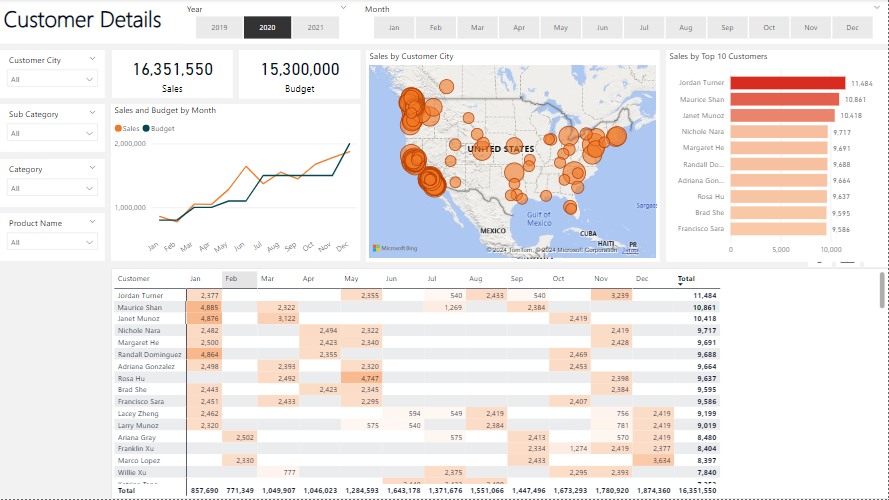

What the dashboard file says about the page in this screenshot:
{"tool":"powerbi","page":{"name":"Customer Details","canvas":[1280,720],"ordinal":1},"visuals":[{"type":"textbox","box":[0,0,1280,64],"z":0},{"type":"slicer","fields":{"Values":["DIM_Calendar.Year"]},"box":[256,0,256,64],"z":1000},{"type":"slicer","fields":{"Values":["DIM_Calendar.MonthShort"]},"box":[512,0,768,64],"z":2000},{"type":"slicer","fields":{"Values":["DIM_Customers.Customer City"]},"box":[0,73,150.5,69.3],"z":3000},{"type":"slicer","fields":{"Values":["DIM_Products.Product Category"]},"box":[0,229.9,150.5,69.3],"z":4000},{"type":"slicer","fields":{"Values":["DIM_Products.Product Name"]},"box":[0,308.4,150.5,69.3],"z":5000},{"type":"slicer","fields":{"Values":["DIM_Products.Sub Category"]},"box":[0,151.4,150.5,69.3],"z":6000},{"type":"lineChart","fields":{"Category":["DIM_Calendar.MonthShort"],"Y":["Analysis Metrics.Sales","Analysis Metrics.Budget"]},"box":[159.8,151.8,358.7,226.4],"z":7000},{"type":"card","fields":{"Values":["Analysis Metrics.Sales"]},"box":[160.7,72.8,174,69.2],"z":8000},{"type":"map","fields":{"Category":["DIM_Customers.Customer City"],"Size":["Analysis Metrics.Sales"]},"box":[527.3,72.8,423.5,304.5],"z":9000},{"type":"card","fields":{"Values":["Analysis Metrics.Budget"]},"box":[343.6,72.8,174.9,70.1],"z":10000},{"type":"pivotTable","fields":{"Rows":["DIM_Customers.Full Name"],"Columns":["DIM_Calendar.MonthShort"],"Values":["Analysis Metrics.Sales"]},"box":[159.8,387.1,1120.4,332.9],"z":11000},{"type":"barChart","title":"Sales by Top 10 Customers","fields":{"Category":["DIM_Customers.Full Name"],"Y":["Analysis Metrics.Sales"]},"box":[959.7,72.8,320.5,304.5],"z":12000}]}

Visuals, with their boxes in screenshot pixels (x1, y1, x2, y2), scaled from the page's 1280x720 canvas onto the 889x500 screenshot:
textbox: locate(0, 0, 888, 44)
slicer - DIM_Calendar.Year: locate(178, 0, 356, 44)
slicer - DIM_Calendar.MonthShort: locate(356, 0, 888, 44)
slicer - DIM_Customers.Customer City: locate(0, 51, 105, 99)
slicer - DIM_Products.Product Category: locate(0, 160, 105, 208)
slicer - DIM_Products.Product Name: locate(0, 214, 105, 262)
slicer - DIM_Products.Sub Category: locate(0, 105, 105, 153)
lineChart - DIM_Calendar.MonthShort x Analysis Metrics.Sales: locate(111, 105, 360, 263)
card - Analysis Metrics.Sales: locate(112, 51, 232, 99)
map - DIM_Customers.Customer City x Analysis Metrics.Sales: locate(366, 51, 660, 262)
card - Analysis Metrics.Budget: locate(239, 51, 360, 99)
pivotTable - DIM_Customers.Full Name x DIM_Calendar.MonthShort: locate(111, 269, 888, 499)
"Sales by Top 10 Customers" barChart: locate(667, 51, 888, 262)
